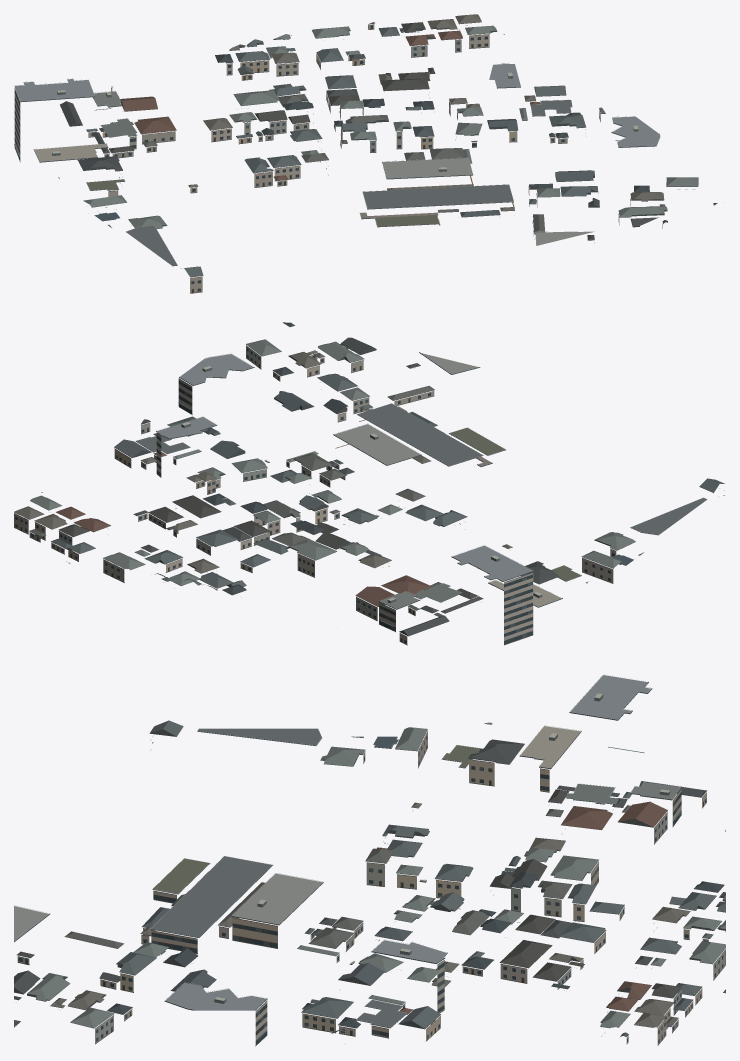
3 views of the same model, one above another, from view 1: azimuth 30°, elevation 25°; view 2: azimuth 150°, elevation 25°; view 3: azimuth 270°, elevation 25° (orthographic). The views are drawn at different scales.
Visible parts, largest first — view 1: r3-c5; view 2: r3-c5; view 3: r3-c5.
Boxes of the visible parts, box(x1,y1,x2,y2) form: r3-c5: box(14, 14, 717, 293); r3-c5: box(14, 322, 724, 645); r3-c5: box(14, 674, 725, 1046).
Bounding box in the file's own units: 250 × 31.41 × 250.
